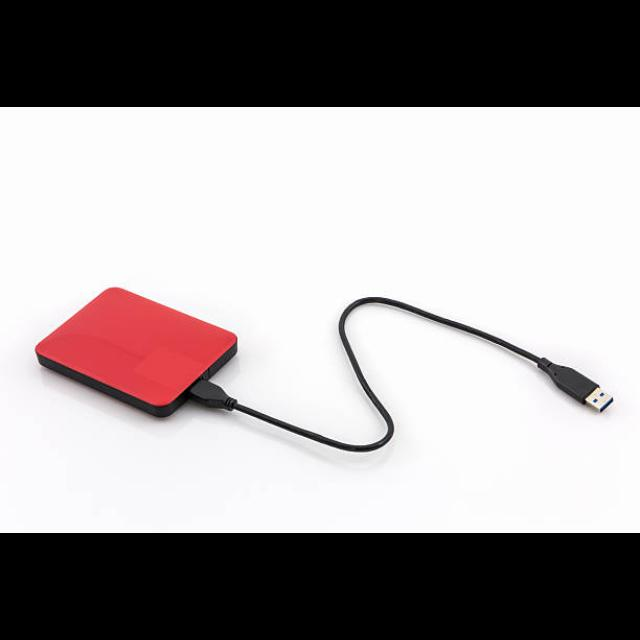HDD: (35, 288, 237, 419)
